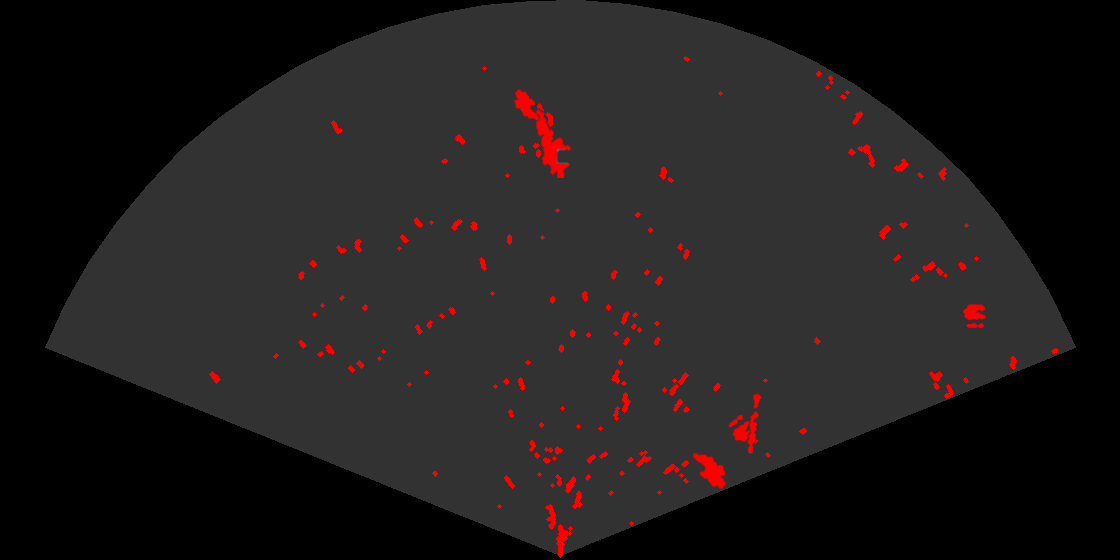AUV: (691, 451, 728, 491), (513, 88, 541, 122)
ball: (727, 413, 757, 444), (962, 303, 988, 330)
chain: (746, 392, 763, 454)
frogman: (534, 108, 573, 178)
